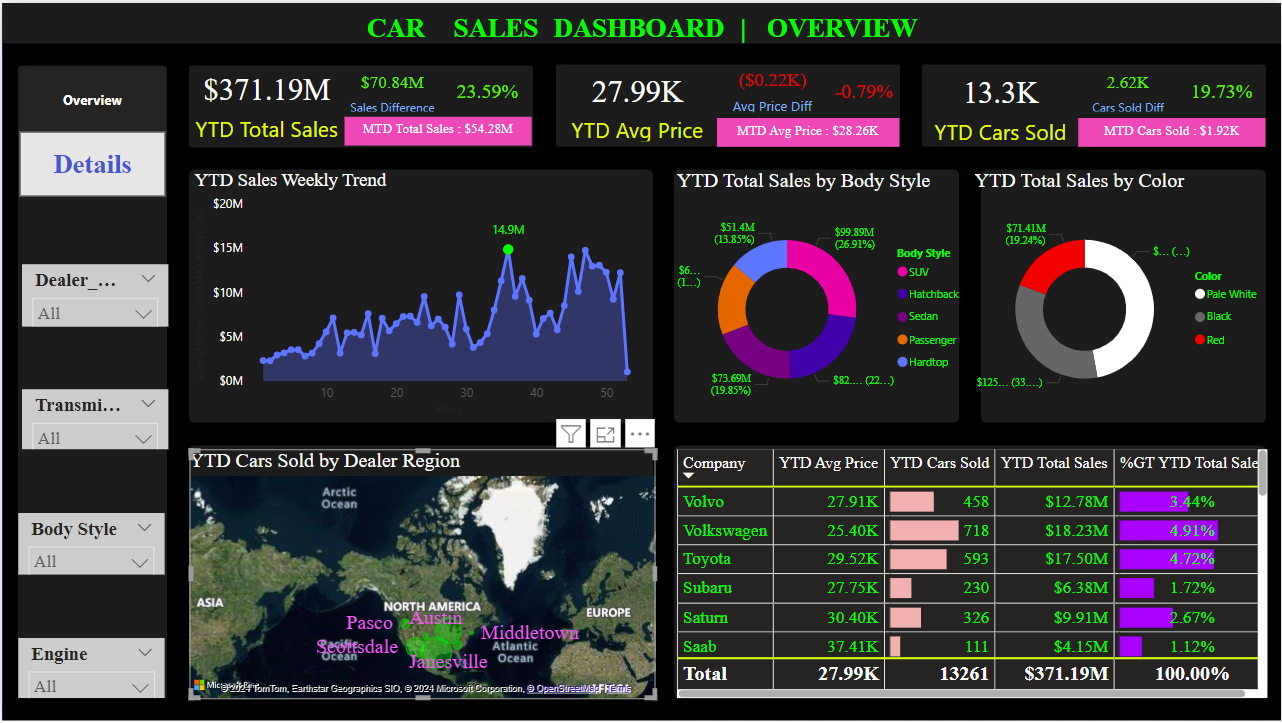

This screenshot's page, from the dashboard's own definition file:
{"tool":"powerbi","page":{"name":"Overview ","canvas":[1280,720],"ordinal":0},"visuals":[{"type":"card","fields":{"Values":["car_data.YTD Total Sales"]},"box":[187.5,58.8,155,83.8],"z":0},{"type":"card","fields":{"Values":["car_data.Sales Difference"]},"box":[342.5,63.8,96.2,50],"z":1000},{"type":"card","fields":{"Values":["car_data.YoY Sales Growth"]},"box":[438.8,65,93.8,48.8],"z":2000},{"type":"card","fields":{"Values":["car_data.MTD KPI"]},"box":[342.5,114,187,28.5],"z":3000},{"type":"card","fields":{"Values":["car_data.YTD Avg Price"]},"box":[556.2,60,158.8,83.8],"z":4000},{"type":"card","fields":{"Values":["car_data.Avg Price Diff"]},"box":[715.6,58.9,111.1,55.6],"z":5000},{"type":"card","fields":{"Values":["car_data.YoY Avg Price Growth"]},"box":[826.7,63.3,71.1,51.1],"z":6000},{"type":"card","fields":{"Values":["car_data.MTD Avg Price KPI"]},"box":[715.6,114.4,182.2,28.9],"z":7000},{"type":"card","fields":{"Values":["car_data.YTD Cars Sold"]},"box":[921.2,63.8,155,80],"z":8000},{"type":"card","fields":{"Values":["car_data.Cars Sold Diff"]},"box":[1076.2,63.8,100,50],"z":9000},{"type":"card","fields":{"Values":["car_data.YoY Car Sold Growth"]},"box":[1175.9,63.5,87.1,50.6],"z":10000},{"type":"card","fields":{"Values":["car_data.MTD Cars Sold KPI"]},"box":[1076.2,115,187.5,28.8],"z":11000},{"type":"areaChart","title":"YTD Sales Weekly Trend","fields":{"Category":["Calender Table.Week"],"Y":["Sum(car_data.Price ($))","car_data.MAX POINT ON AREA CHART"]},"box":[187.5,166.7,460,251.7],"z":12000},{"type":"donutChart","fields":{"Category":["car_data.Body Style"],"Y":["car_data.YTD Total Sales"]},"box":[675,166.4,291,254],"z":13000},{"type":"donutChart","fields":{"Y":["car_data.YTD Total Sales"],"Category":["car_data.Color"]},"box":[972.5,166.2,291.2,253.8],"z":14000},{"type":"map","title":"YTD Cars Sold by Dealer Region","fields":{"Size":["car_data.YTD Cars Sold"],"Category":["car_data.Dealer_Region"]},"box":[187.5,446.2,466.2,250],"z":15000},{"type":"tableEx","fields":{"Values":["car_data.Company","car_data.YTD Avg Price","car_data.YTD Cars Sold","car_data.YTD Total Sales","Divide(car_data.YTD Total Sales, ScopedEval(car_data.YTD Total Sales, []))"]},"box":[675,446.2,590,248.8],"z":16000},{"type":"textbox","box":[0,0,1280,41.2],"z":17000},{"type":"slicer","fields":{"Values":["car_data.Body Style"]},"box":[16.2,510,146.2,61.2],"z":18000},{"type":"slicer","fields":{"Values":["car_data.Dealer_Name"]},"box":[20,261.2,146.2,62.5],"z":19000},{"type":"slicer","fields":{"Values":["car_data.Transmission"]},"box":[20,386.2,146.2,60],"z":20000},{"type":"slicer","fields":{"Values":["car_data.Engine"]},"box":[16.7,635,146.7,60],"z":21000},{"type":"pageNavigator","box":[17.5,63.8,146.2,130],"z":21001}]}

Visuals, with their boxes in screenshot pixels (x1, y1, x2, y2), scaled from the page's 1280x720 canvas onto the 1282x723 screenshot:
card - car_data.YTD Total Sales: (left=188, top=59, right=343, bottom=143)
card - car_data.Sales Difference: (left=343, top=64, right=439, bottom=114)
card - car_data.YoY Sales Growth: (left=439, top=65, right=533, bottom=114)
card - car_data.MTD KPI: (left=343, top=114, right=530, bottom=143)
card - car_data.YTD Avg Price: (left=557, top=60, right=716, bottom=144)
card - car_data.Avg Price Diff: (left=717, top=59, right=828, bottom=115)
card - car_data.YoY Avg Price Growth: (left=828, top=64, right=899, bottom=115)
card - car_data.MTD Avg Price KPI: (left=717, top=115, right=899, bottom=144)
card - car_data.YTD Cars Sold: (left=923, top=64, right=1078, bottom=144)
card - car_data.Cars Sold Diff: (left=1078, top=64, right=1178, bottom=114)
card - car_data.YoY Car Sold Growth: (left=1178, top=64, right=1265, bottom=115)
card - car_data.MTD Cars Sold KPI: (left=1078, top=115, right=1266, bottom=144)
"YTD Sales Weekly Trend" areaChart: (left=188, top=167, right=649, bottom=420)
donutChart - car_data.Body Style x car_data.YTD Total Sales: (left=676, top=167, right=968, bottom=422)
donutChart - car_data.YTD Total Sales x car_data.Color: (left=974, top=167, right=1266, bottom=422)
"YTD Cars Sold by Dealer Region" map: (left=188, top=448, right=655, bottom=699)
tableEx - car_data.Company x car_data.YTD Avg Price: (left=676, top=448, right=1267, bottom=698)
textbox: (left=0, top=0, right=1281, bottom=41)
slicer - car_data.Body Style: (left=16, top=512, right=163, bottom=574)
slicer - car_data.Dealer_Name: (left=20, top=262, right=166, bottom=325)
slicer - car_data.Transmission: (left=20, top=388, right=166, bottom=448)
slicer - car_data.Engine: (left=17, top=638, right=164, bottom=698)
pageNavigator: (left=18, top=64, right=164, bottom=195)
